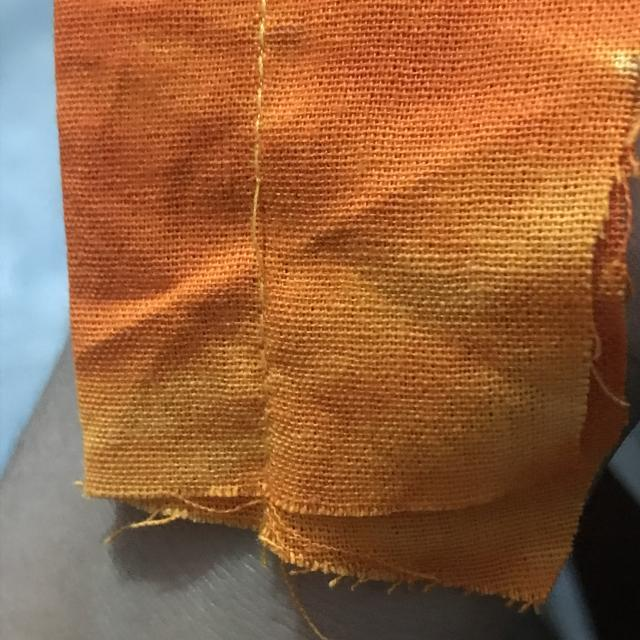skip: (231, 164, 282, 300)
